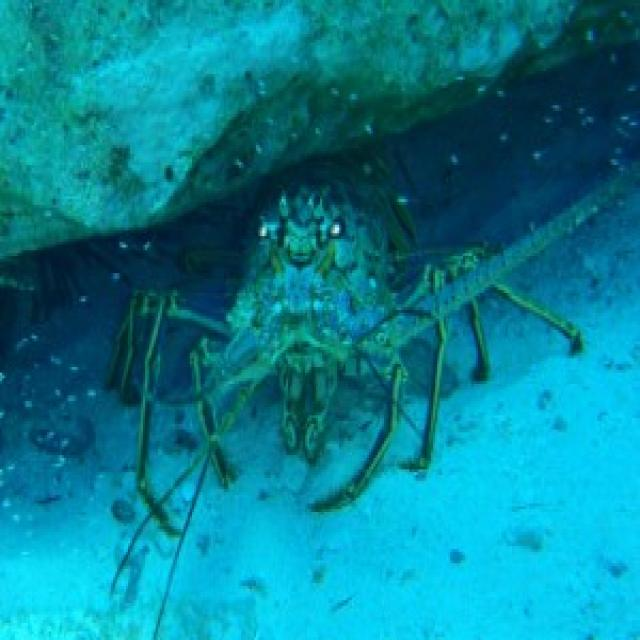lobsters: (47, 19, 558, 546)
